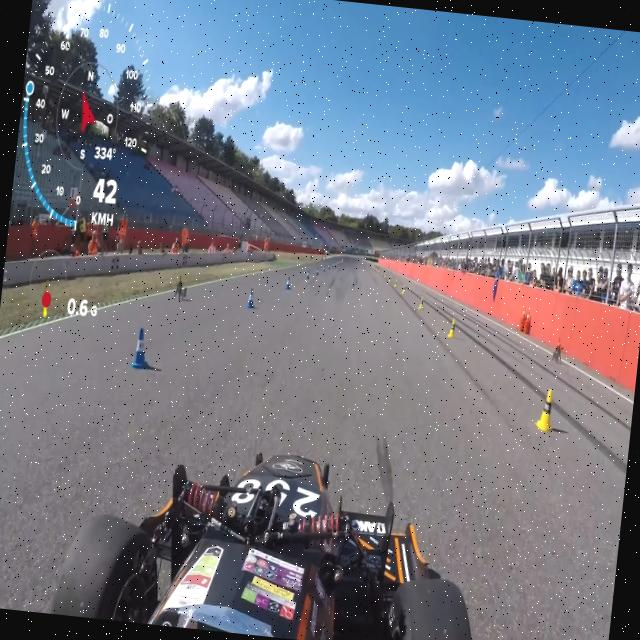blue_cone: (130, 326, 152, 371), (246, 286, 256, 308), (285, 274, 292, 290)
yellow_cone: (534, 386, 556, 432), (447, 317, 458, 338), (418, 294, 426, 310)
